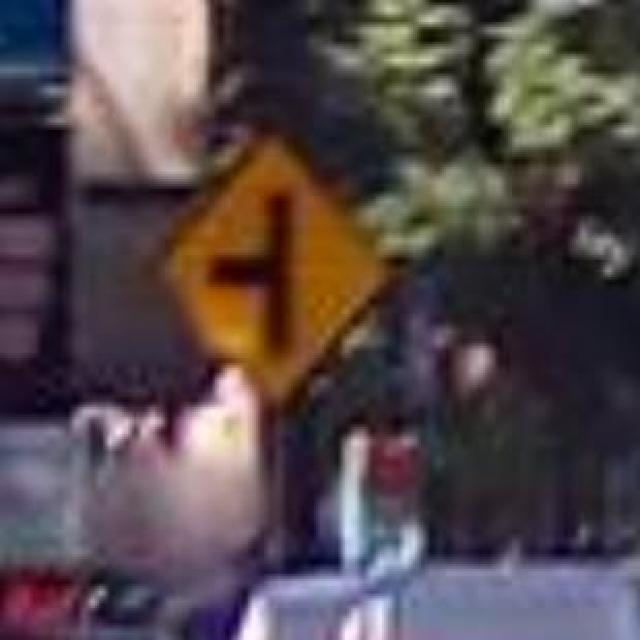traffic sign: (167, 149, 390, 362)
